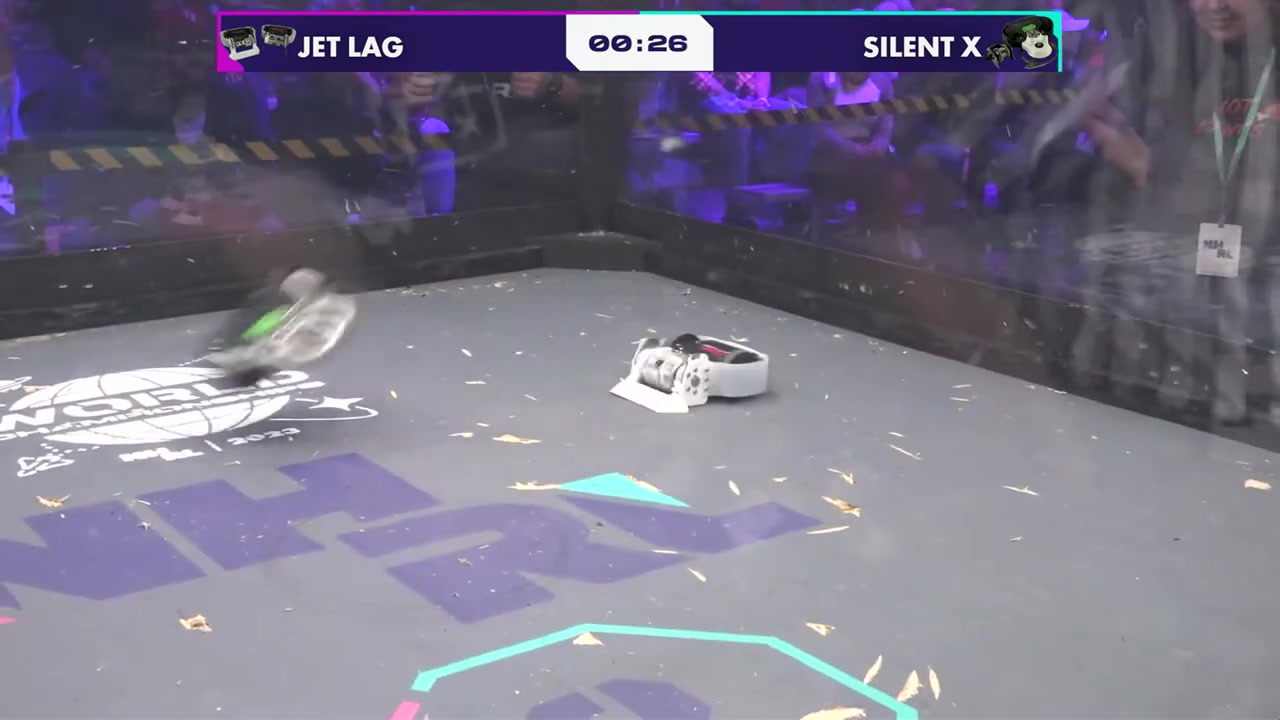combatbot: (218, 267, 326, 383), (631, 336, 768, 397)
